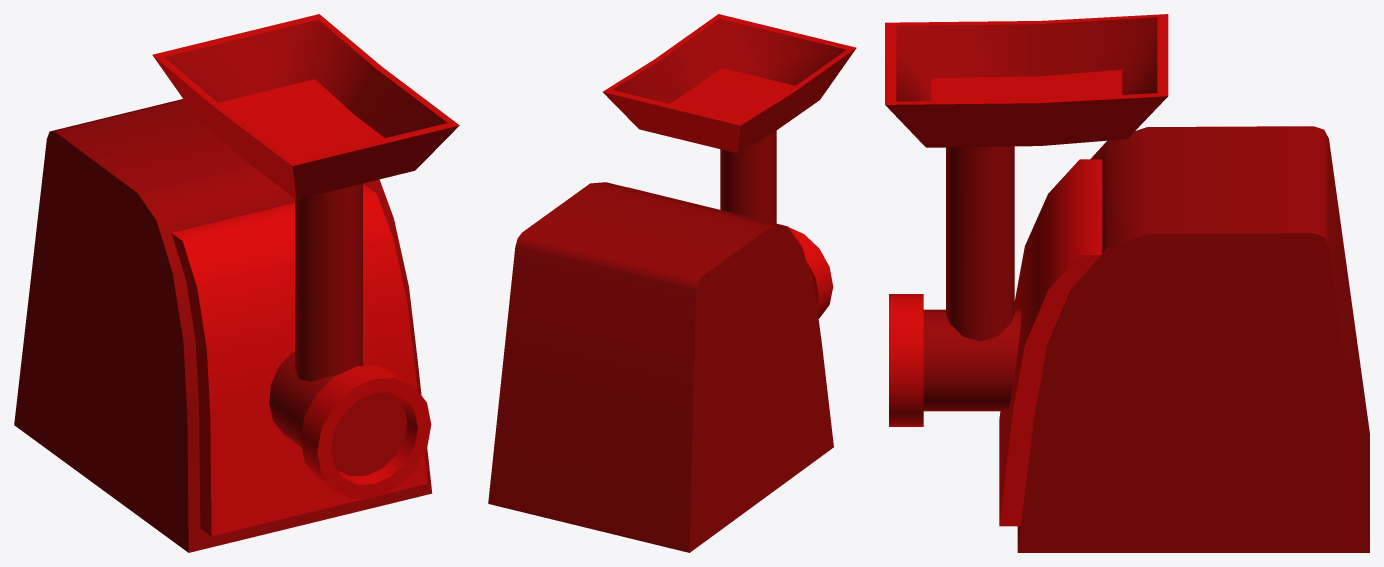
The model's file is Meat Grinder.fbx.
3 renders of one model, left to right at view 1: azimuth 30°, elevation 25°; view 2: azimuth 150°, elevation 25°; view 3: azimuth 270°, elevation 25°, orthographic. The views are drawn at different scales.
Visible parts, largest first — view 1: Meat Grinder; view 2: Meat Grinder; view 3: Meat Grinder.
Boxes of the visible parts, x1,y1,x2,y2 form: Meat Grinder: (14, 14, 459, 552); Meat Grinder: (488, 14, 856, 552); Meat Grinder: (885, 14, 1369, 552).
Size of the model in its own units: 39.78 by 67.77 by 67.99.
